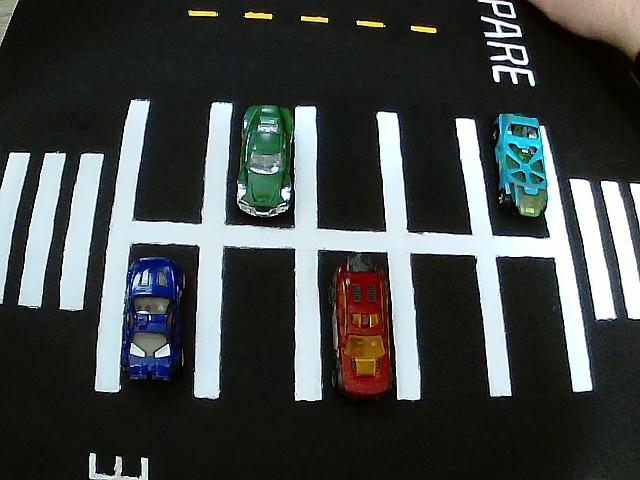Carro: (335, 262, 395, 402), (124, 256, 184, 384), (239, 106, 293, 219), (495, 113, 551, 219)
